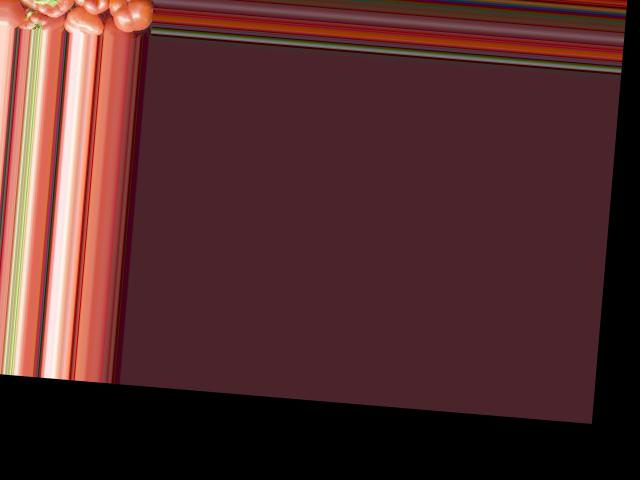bell_pepper: (64, 9, 106, 34)
